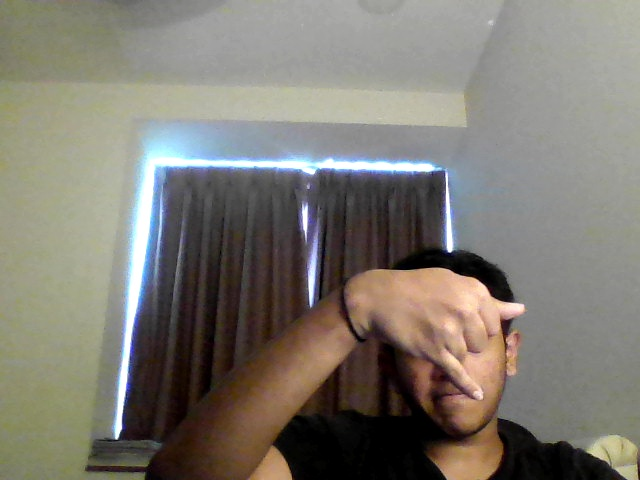J: (362, 267, 524, 400)
